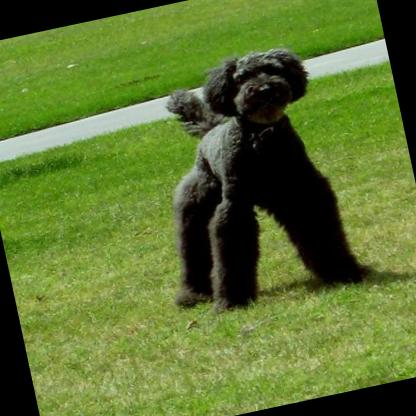standard_poodle: (120, 32, 376, 325)
